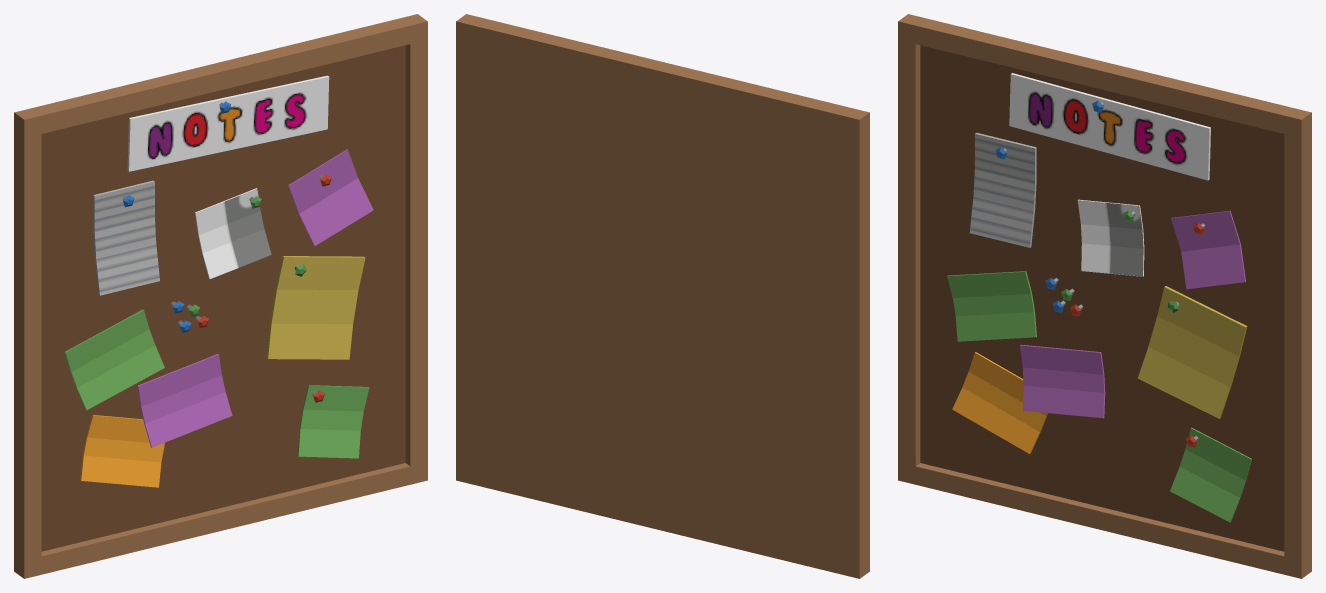
Rendered from Int_NotesBoard01_2.fbx.
3 renders of one model, left to right at view 1: azimuth 30°, elevation 25°; view 2: azimuth 150°, elevation 25°; view 3: azimuth 330°, elevation 25°, orthographic.
Visible parts, largest first — view 1: Int_NotesBoard01_2; view 2: Int_NotesBoard01_2; view 3: Int_NotesBoard01_2.
Boxes of the visible parts, x1,y1,x2,y2 form: Int_NotesBoard01_2: [14, 14, 427, 578]; Int_NotesBoard01_2: [456, 14, 869, 578]; Int_NotesBoard01_2: [898, 14, 1311, 578].
Size of what is drawn, in the model's own units: 115 by 6.04 by 125.
